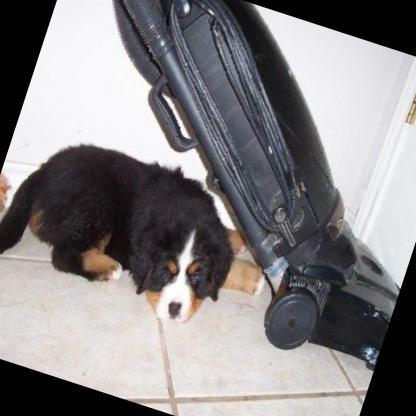Bernese_mountain_dog: (0, 119, 254, 334)
